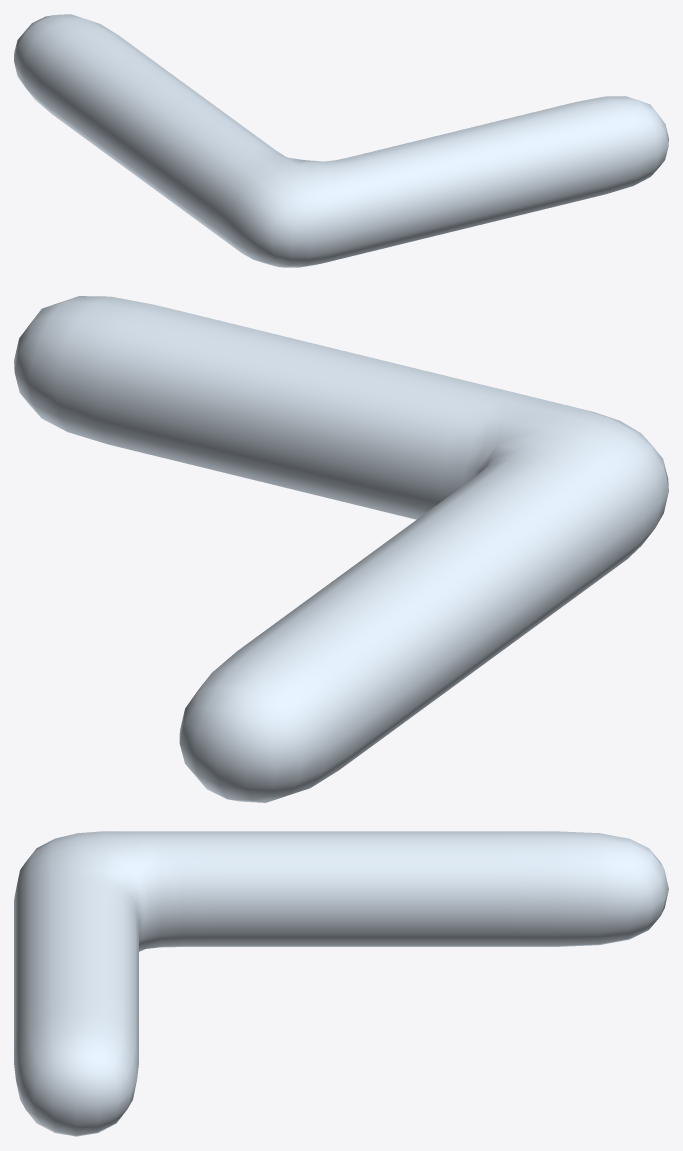
3 renders of one model, top to bottom at view 1: azimuth 30°, elevation 25°; view 2: azimuth 150°, elevation 25°; view 3: azimuth 270°, elevation 25°, orthographic. The views are drawn at different scales.
Visible parts, largest first — view 1: 01L; view 2: 01L; view 3: 01L.
Part boxes in pixels (<box>): 01L: <box>14,14,668,267</box>; 01L: <box>14,296,668,802</box>; 01L: <box>14,831,668,1136</box>.
Size of the model in its own units: 634 by 125 by 716.
